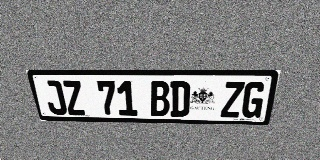1: (115, 81, 138, 116)
7: (95, 81, 119, 116)
B: (149, 81, 169, 116)
D: (170, 81, 190, 117)
G: (240, 82, 267, 118)
J: (42, 80, 68, 115)
Z: (220, 81, 245, 118), (61, 81, 86, 115)
